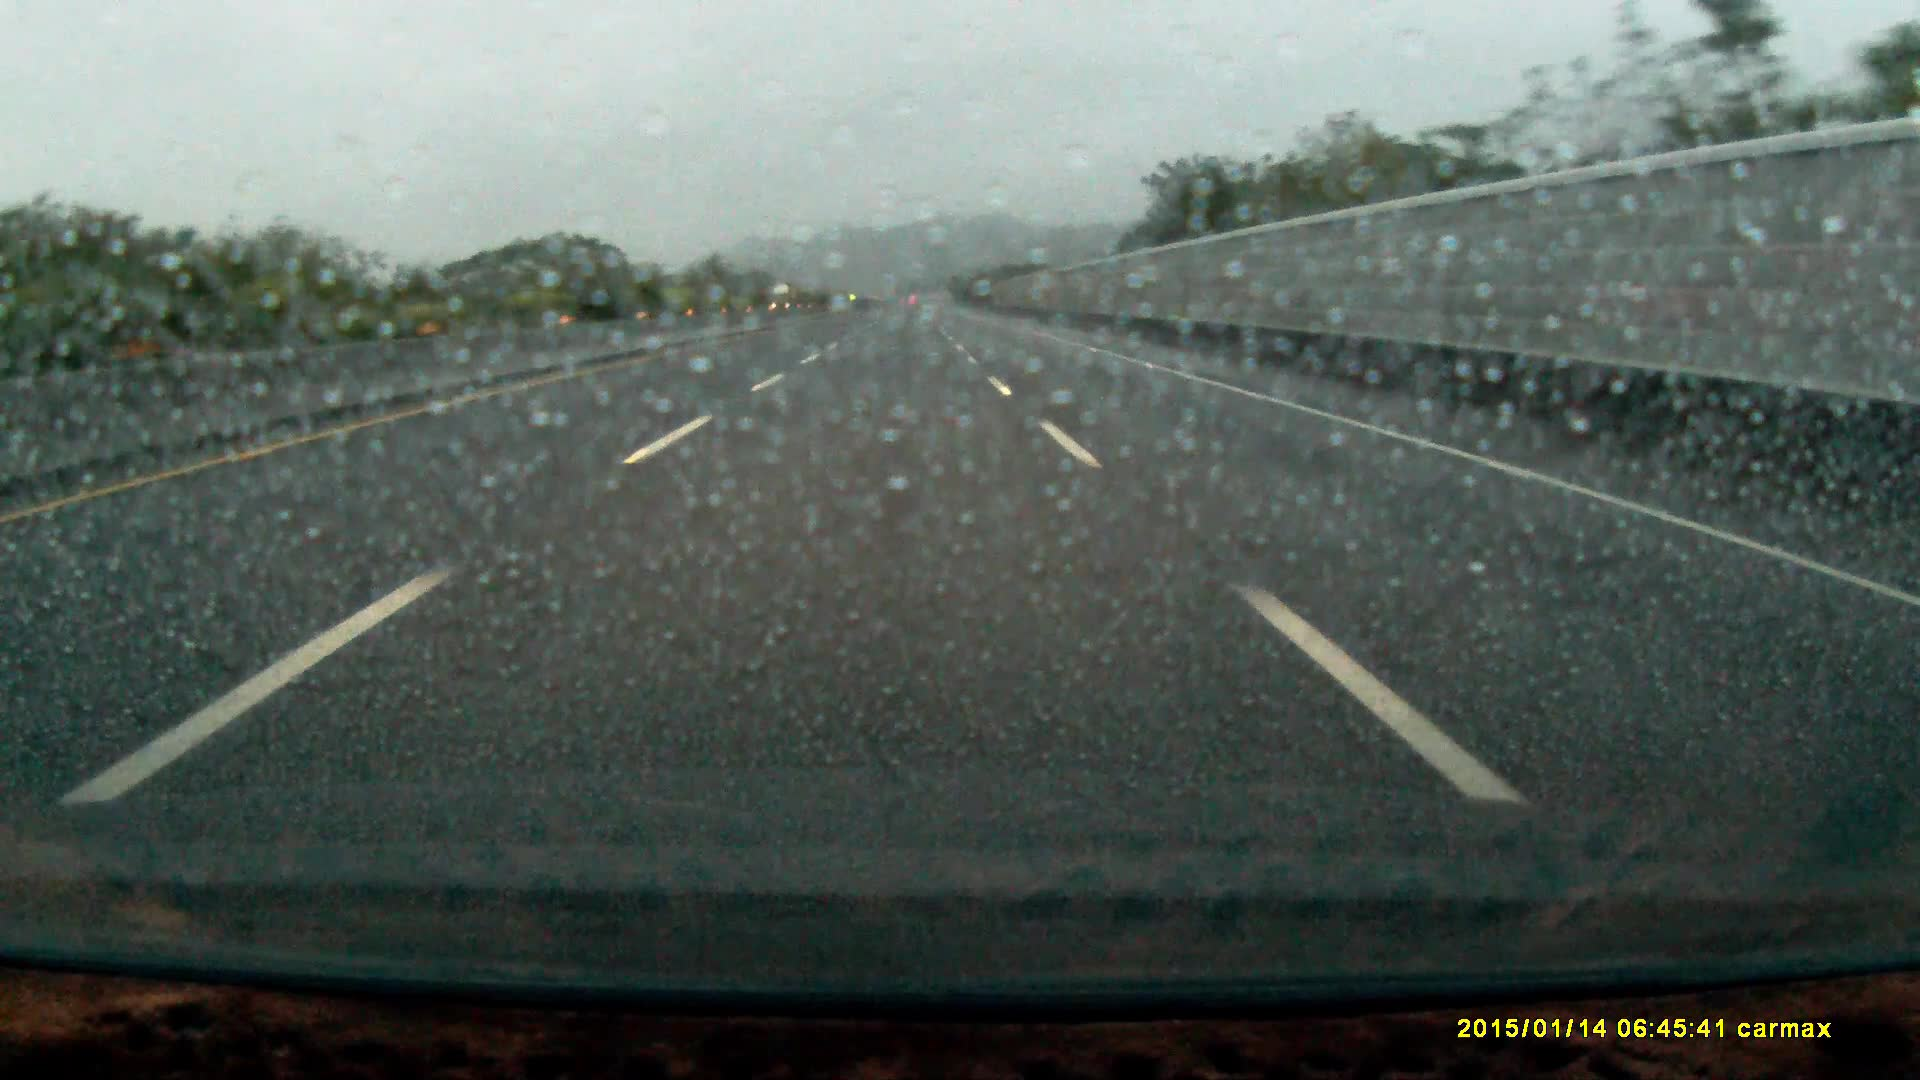vehicle: (771, 280, 798, 307)
